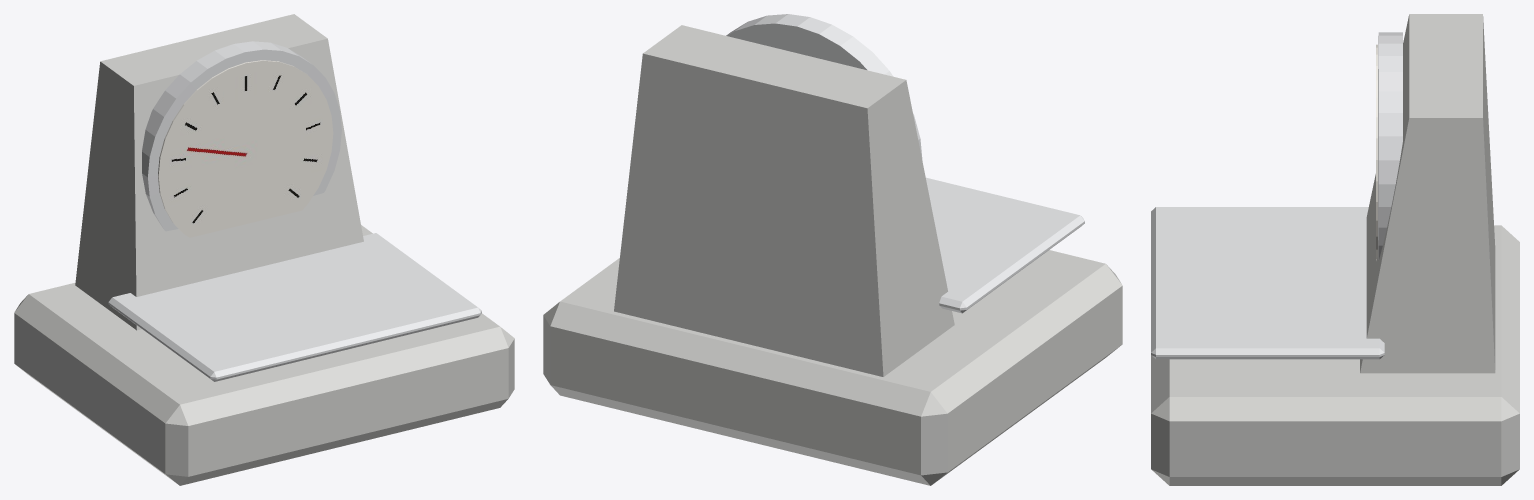
File: balanca_correio.glb
The picture shows the model from 3 angles, left to right: view 1: azimuth 30°, elevation 25°; view 2: azimuth 150°, elevation 25°; view 3: azimuth 270°, elevation 25°; orthographic projection. The views are drawn at different scales.
Parts seen in each view (by area): view 1: balanca_correio_esmalte, balanca_correio_aco_polido, balanca_correio_mostrador_balanca; view 2: balanca_correio_esmalte, balanca_correio_aco_polido; view 3: balanca_correio_esmalte, balanca_correio_aco_polido, balanca_correio_mostrador_balanca.
Part boxes in pixels (box(x1,y1,x2,y2)): balanca_correio_esmalte: box(14, 14, 514, 485); balanca_correio_aco_polido: box(108, 41, 481, 381); balanca_correio_mostrador_balanca: box(158, 60, 333, 237); balanca_correio_esmalte: box(543, 25, 1122, 485); balanca_correio_aco_polido: box(726, 14, 1084, 313); balanca_correio_esmalte: box(1151, 14, 1519, 485); balanca_correio_aco_polido: box(1151, 32, 1402, 359); balanca_correio_mostrador_balanca: box(1376, 44, 1377, 260).
Bounding box in the file's own units: 0.36 × 0.32 × 0.3.
Materials: 4 (1 with a texture image).
